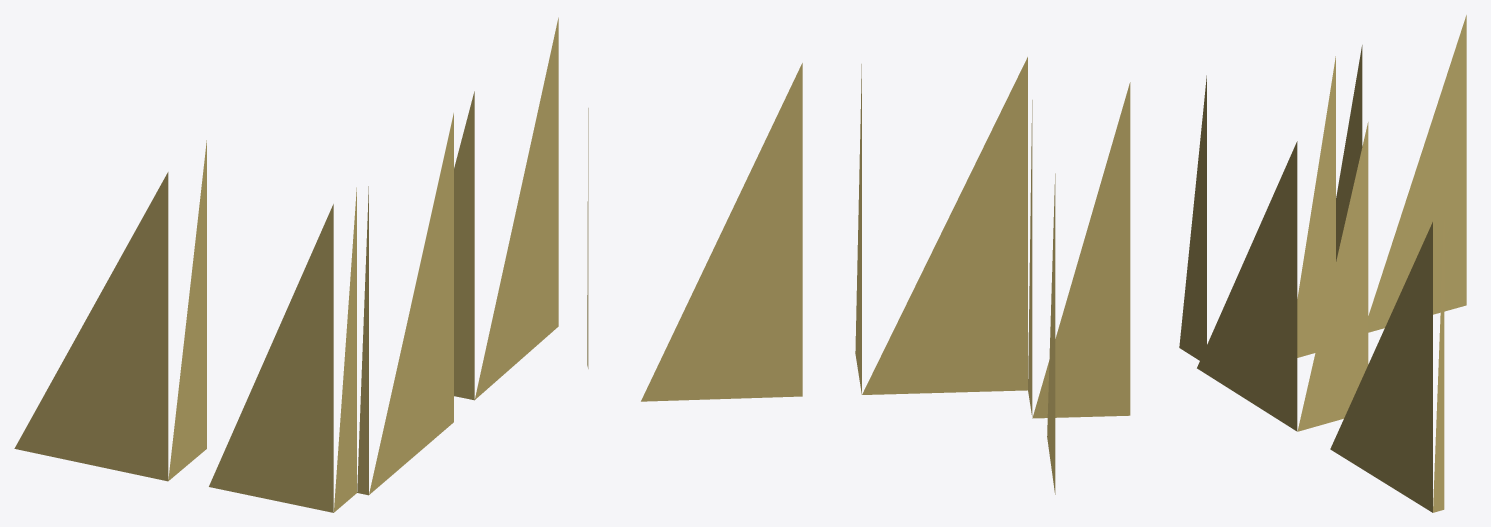
3 views of the same model, side by side, from view 1: azimuth 30°, elevation 25°; view 2: azimuth 150°, elevation 25°; view 3: azimuth 270°, elevation 25° (orthographic). The views are drawn at different scales.
Bounding box in the file's own units: 158 × 87.5 × 80.93.
